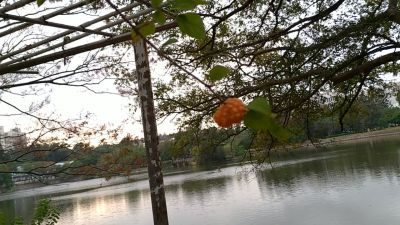eggs: (212, 97, 249, 127)
